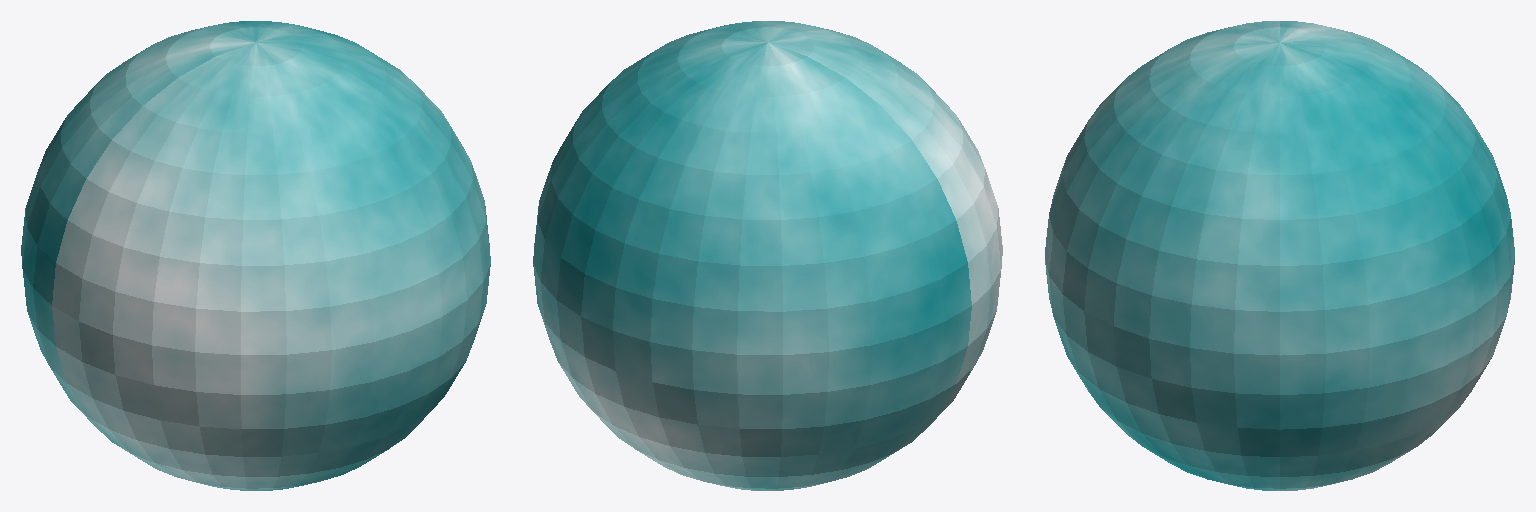
The picture shows the model from 3 angles: view 1: azimuth 30°, elevation 25°; view 2: azimuth 150°, elevation 25°; view 3: azimuth 270°, elevation 25°; orthographic projection.
Visible parts, largest first — view 1: 球; view 2: 球; view 3: 球.
Boxes of the visible parts, x1=… form: 球: x1=21, y1=21, x2=490, y2=490; 球: x1=533, y1=21, x2=1002, y2=490; 球: x1=1045, y1=21, x2=1514, y2=490.
Size of the model in its own units: 1800 by 1800 by 1800.
1 materials, 1 textured.